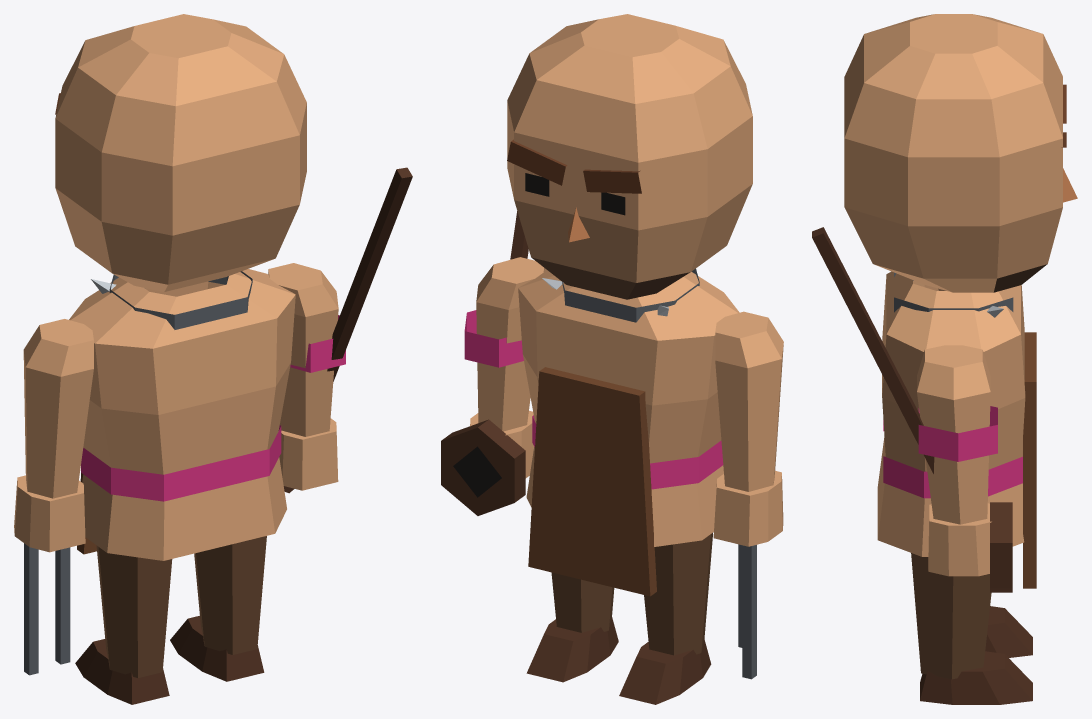
The model's file is EN_BeastHandler.fbx.
3 renders of one model, left to right at view 1: azimuth 30°, elevation 25°; view 2: azimuth 150°, elevation 25°; view 3: azimuth 270°, elevation 25°, orthographic. The views are drawn at different scales.
Parts seen in each view (by area): view 1: Head, Body, ArmL, ArmR, LegL, LegR; view 2: Head, Body, ArmL, ArmR, LegL, LegR; view 3: Head, Body, ArmR, LegR, LegL.
Part boxes in pixels (left/top/right/bottom): Head: left=55, top=14, right=306, bottom=291; Body: left=69, top=269, right=295, bottom=560; ArmL: left=14, top=319, right=93, bottom=675; ArmR: left=268, top=167, right=412, bottom=493; LegL: left=75, top=545, right=172, bottom=704; LegR: left=170, top=536, right=266, bottom=681; Head: left=507, top=14, right=752, bottom=299; Body: left=518, top=268, right=739, bottom=596; ArmL: left=713, top=311, right=783, bottom=679; ArmR: left=441, top=211, right=544, bottom=515; LegL: left=619, top=532, right=713, bottom=704; LegR: left=526, top=572, right=618, bottom=682; Head: left=844, top=14, right=1077, bottom=292; Body: left=877, top=271, right=1036, bottom=588; ArmR: left=812, top=227, right=1012, bottom=592; LegR: left=911, top=553, right=1032, bottom=704; LegL: left=985, top=606, right=1032, bottom=657.
Size of the model in its own units: 0.6807 by 0.4932 by 1.3.
